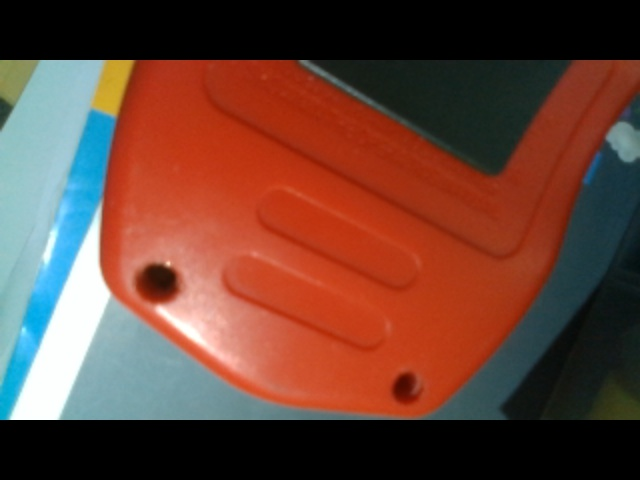Screw holes: (132, 260, 185, 305), (389, 369, 423, 404)
